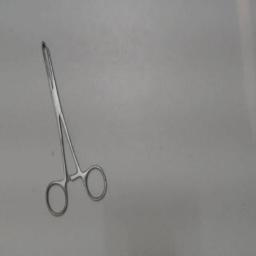Allis Tissue Forceps: (38, 34, 110, 222)
